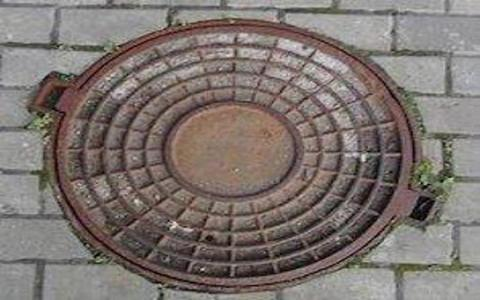proper manhole: (20, 6, 434, 288)
